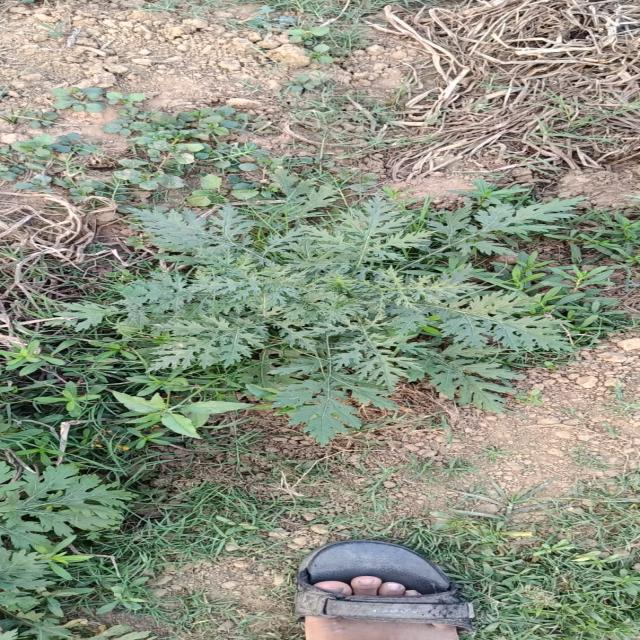plant: (73, 170, 578, 442)
weed: (65, 170, 575, 441)
